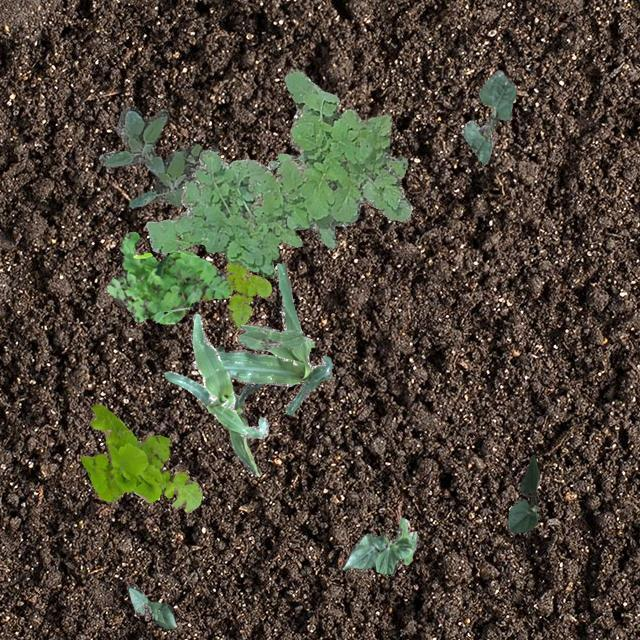crop: (192, 262, 332, 413), (164, 312, 268, 438), (214, 344, 262, 476), (460, 68, 516, 164), (342, 516, 418, 574), (508, 456, 538, 532), (126, 584, 176, 628), (237, 328, 304, 349)
weed: (144, 67, 412, 276), (80, 404, 202, 512), (98, 108, 218, 208), (106, 230, 230, 322), (198, 260, 270, 328), (268, 152, 304, 174)
